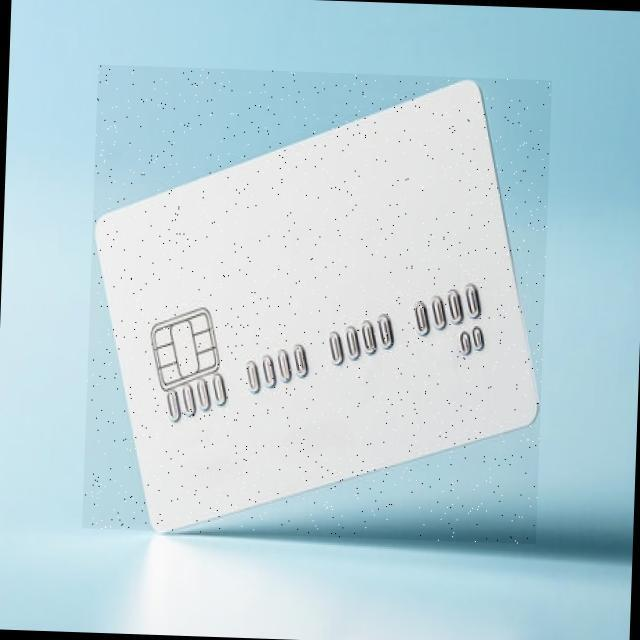payment_card: (91, 73, 542, 533)
